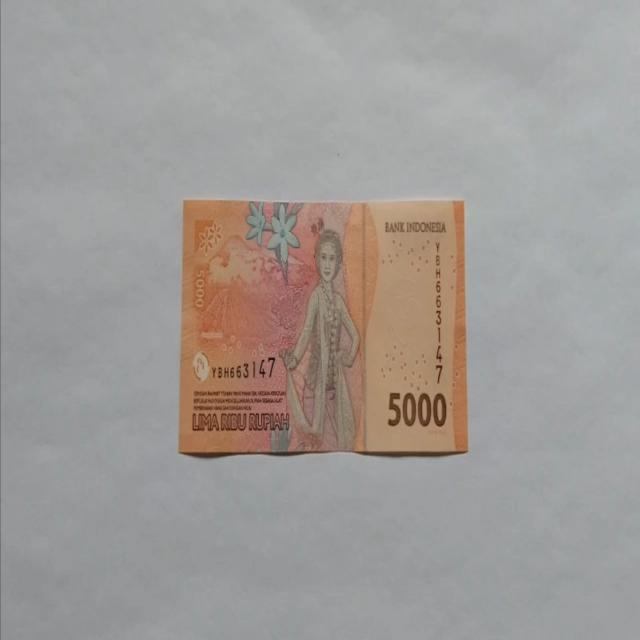lima ribu rupiah: (178, 196, 468, 457), (278, 228, 360, 452)
